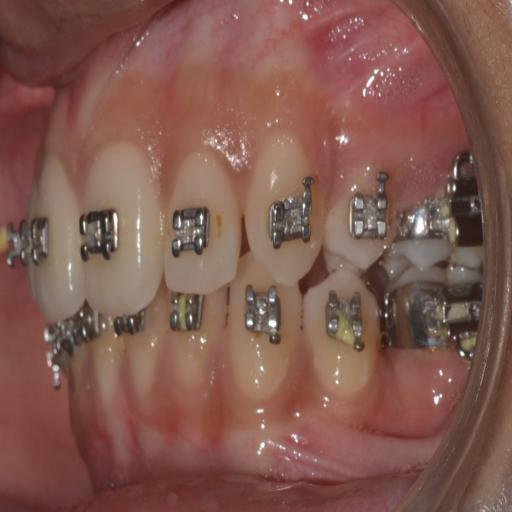correct_brace: (304, 275, 384, 392), (326, 166, 397, 268), (268, 173, 314, 259), (80, 194, 124, 274), (169, 198, 213, 269), (325, 288, 366, 354)
incorrect_brace: (165, 151, 241, 291), (349, 182, 390, 253)
